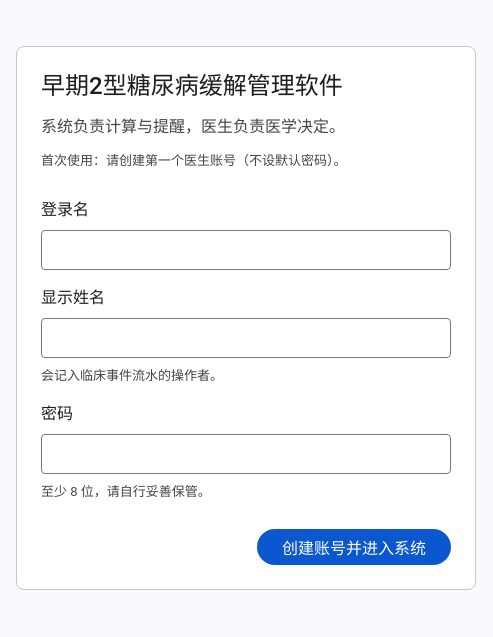
Test: LoginPage › 密码不足 8 位时就地提示，不发起请求
Check: the text "首次使用：请创建第一个医生账号（不设默认密码）。" is shown, box [41,153,346,168]
Type "doctor" into the field labelled "登录名" at (246, 250), box [41,230,451,270]
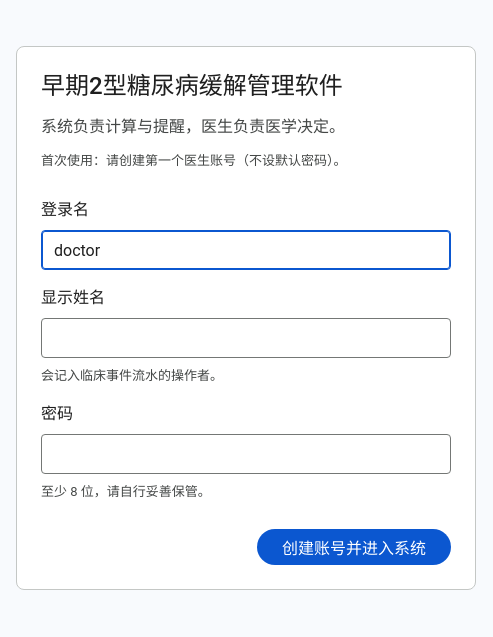
Type "张医生" into the field labelled "显示姓名" at (246, 338), box [41,318,451,358]
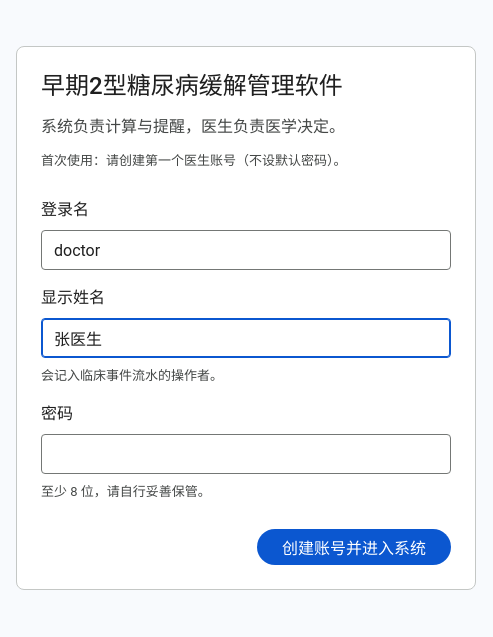
Type "short" into the password field labelled "密码" at (246, 454), box [41,434,451,474]
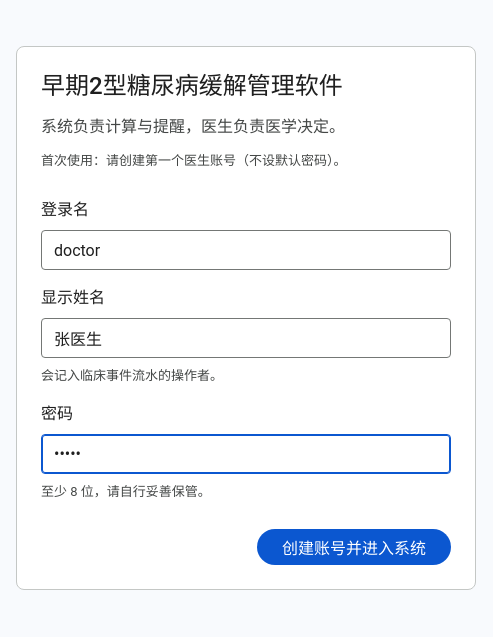
Click the button "创建账号并进入系统" at (354, 547), box [257,529,451,565]
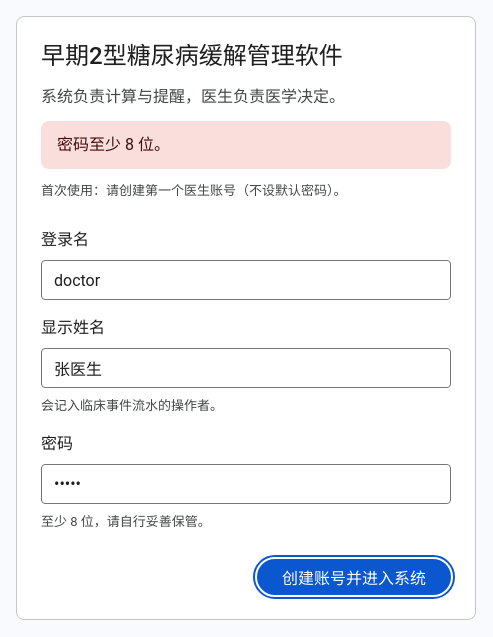
Check: the text "密码至少 8 位。" is shown, box [57,133,170,157]
